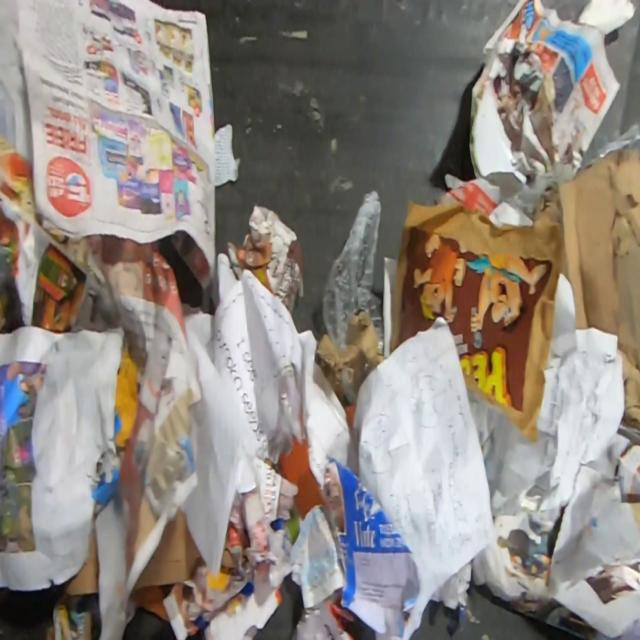cardboard: (529, 145, 640, 431), (437, 48, 557, 230), (236, 204, 306, 316), (314, 311, 386, 404), (130, 509, 204, 593), (290, 588, 359, 639), (64, 527, 99, 596)
soft_plastic: (500, 119, 640, 216), (321, 186, 384, 358), (344, 372, 356, 406)
